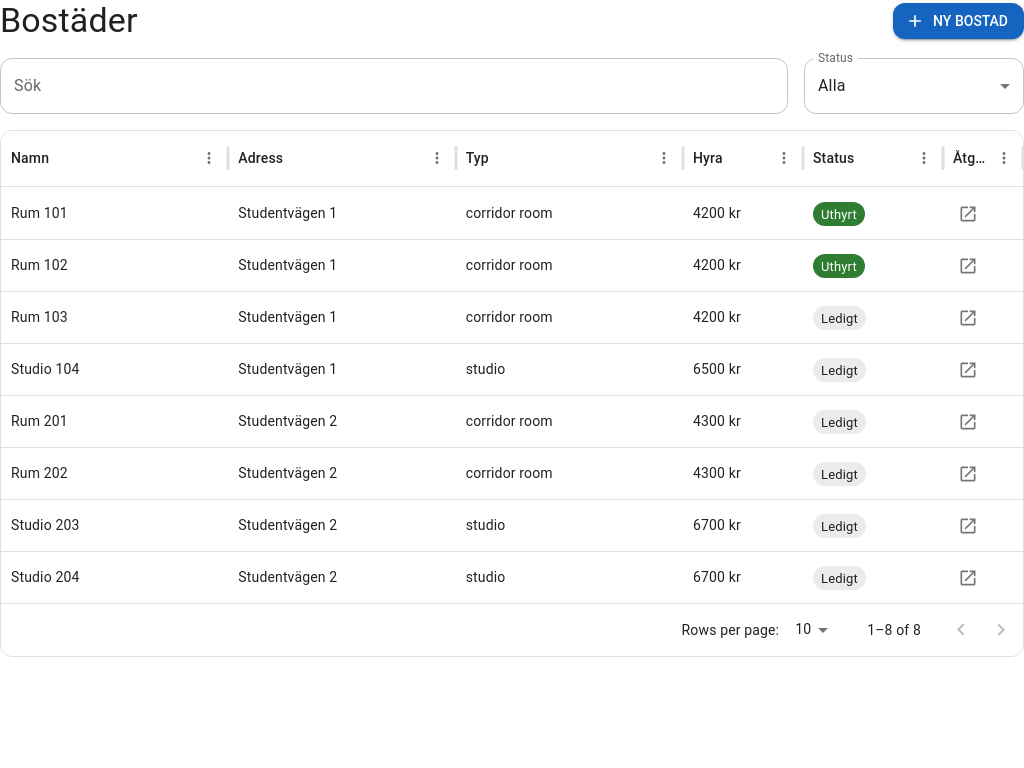
Test: PropertyFormDialog (via list page) › creates a new property and shows it in the grid
This screenshot has width=1024, height=768.
expect the text "Rum 101" is shown: met, box 11,205 -> 68,221
Click the button "Ny bostad": (959, 21) 893,3 -> 1023,39
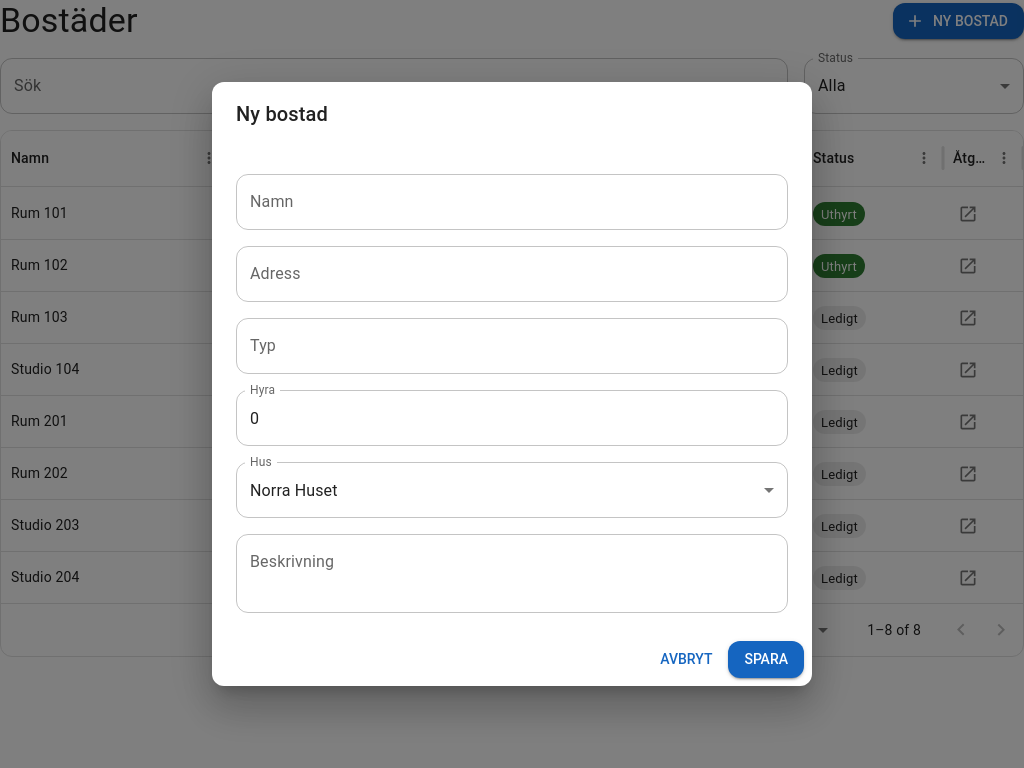
In the field named "name": (512, 202) 236,174 -> 788,230, type "Rum 999"
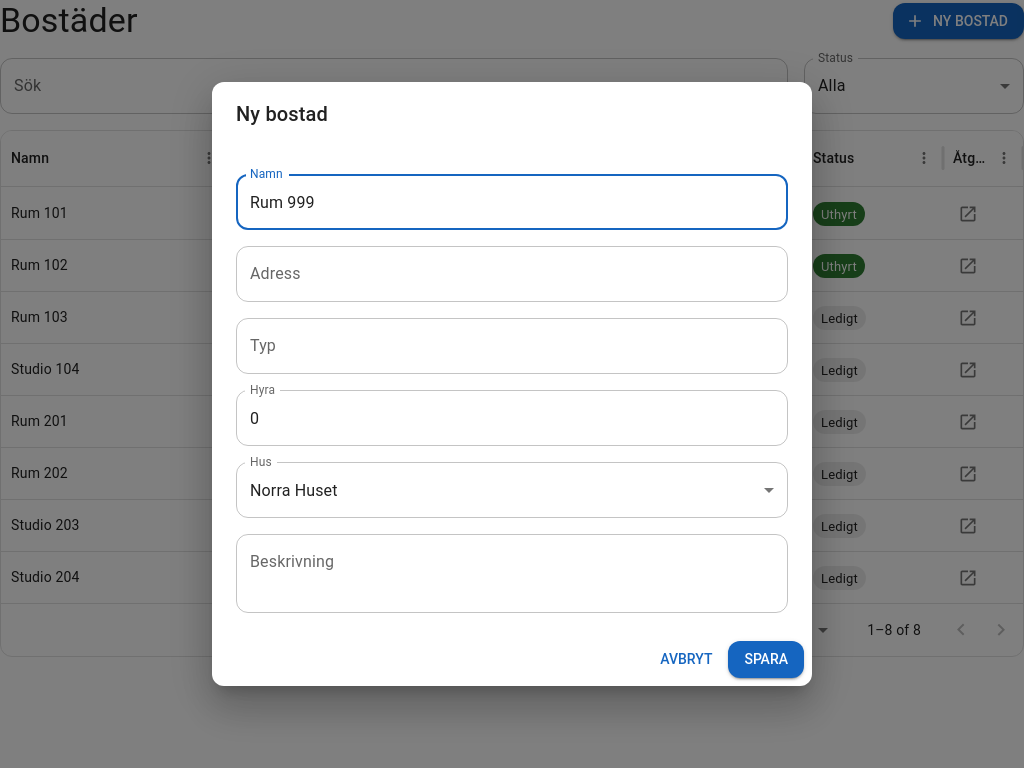
In the field named "address": (512, 274) 236,246 -> 788,302, type "Testväg 9"
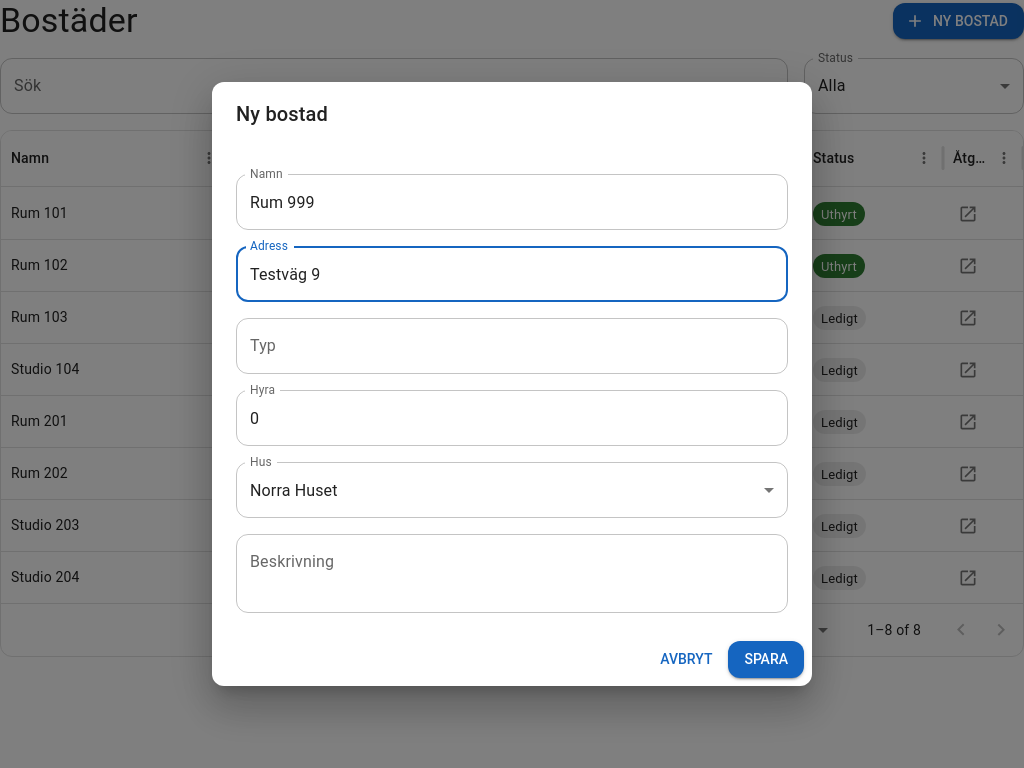
In the field named "roomType": (512, 346) 236,318 -> 788,374, type "studio"
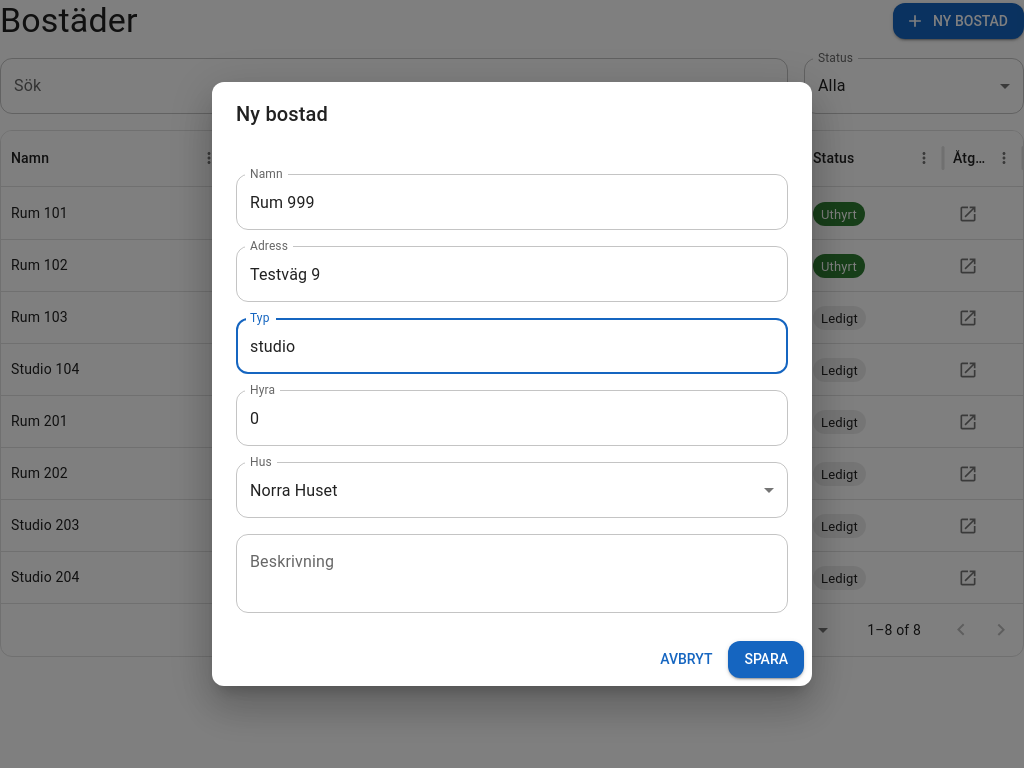
In the number field named "rent": (512, 418) 236,390 -> 788,446, type "7000"
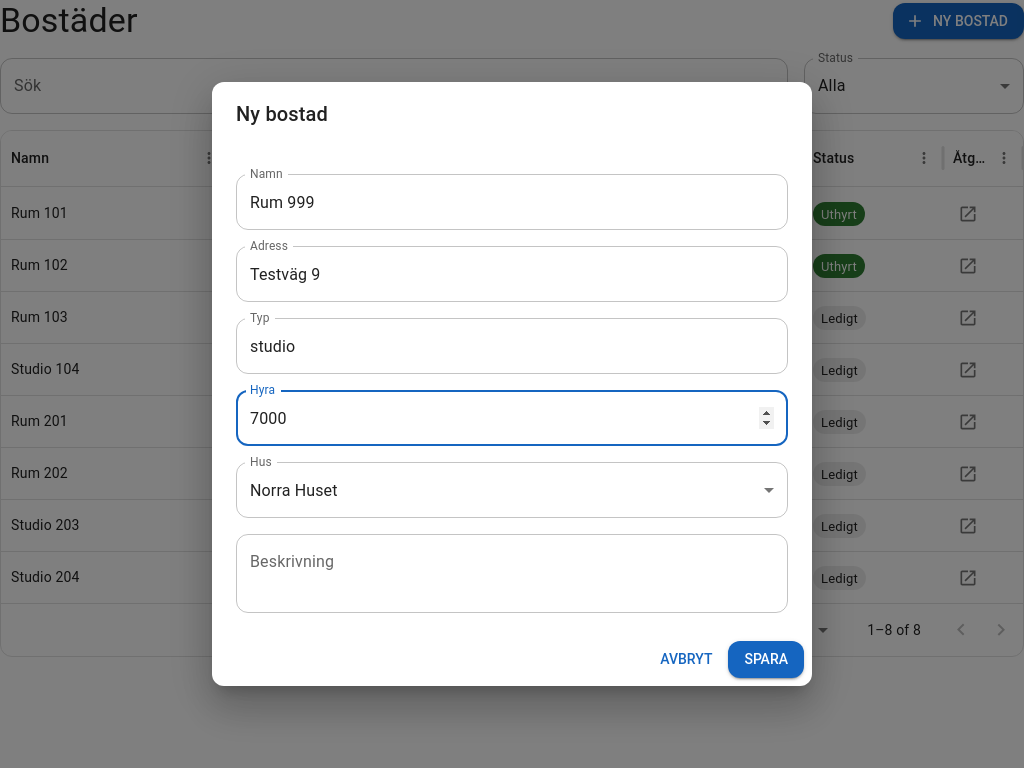
Click the button "Spara": (766, 660) 728,641 -> 804,678
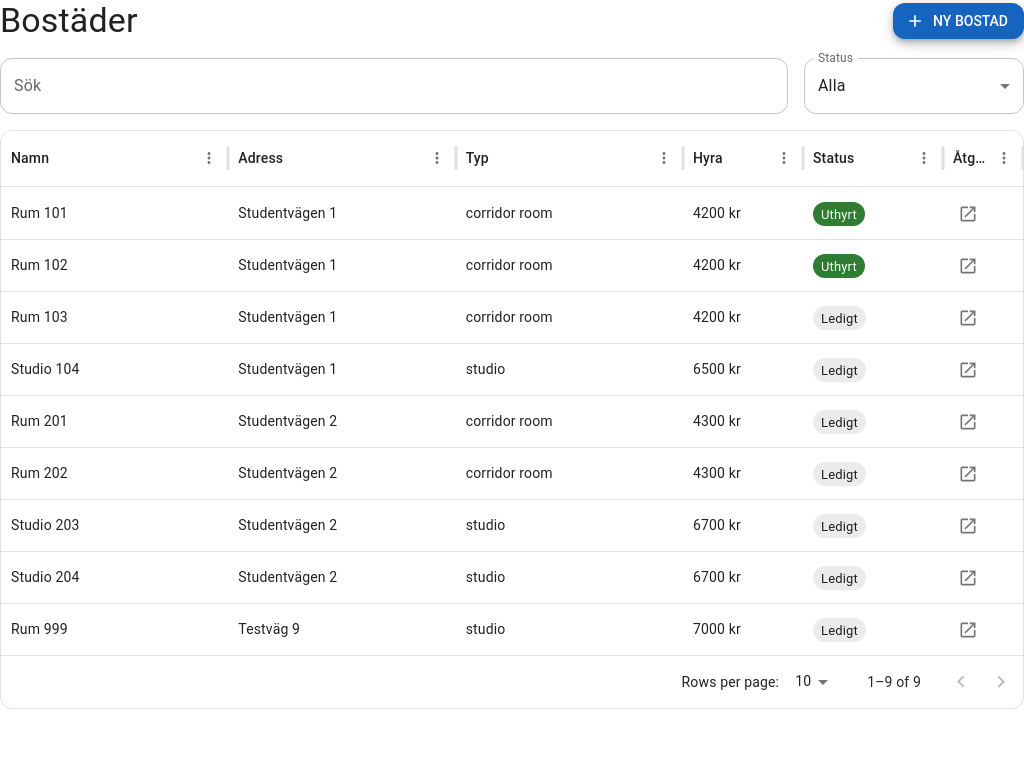
expect the text "Rum 999" is shown: met, box 1,603 -> 228,655
